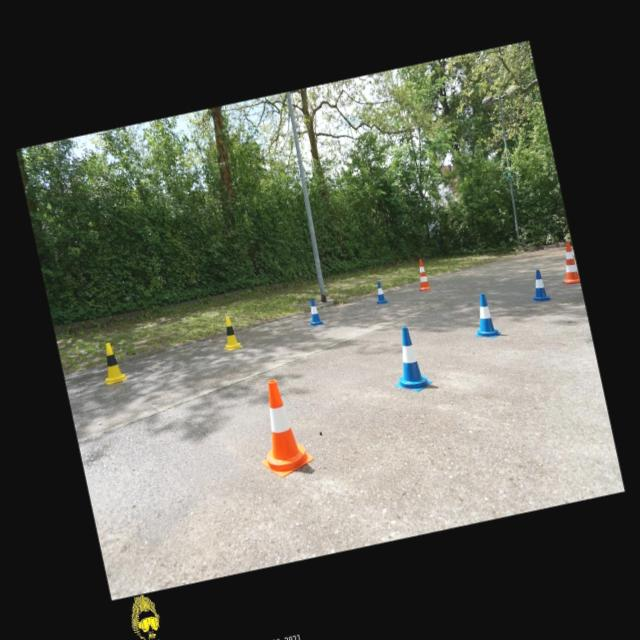blue_cone: (384, 323, 433, 395), (467, 290, 501, 340), (526, 268, 552, 304), (305, 297, 323, 326), (372, 281, 388, 305)
large_orange_cone: (556, 241, 580, 284), (413, 258, 431, 290)
orange_cone: (247, 374, 315, 480)
yellow_cone: (97, 340, 126, 384), (218, 315, 242, 350)
